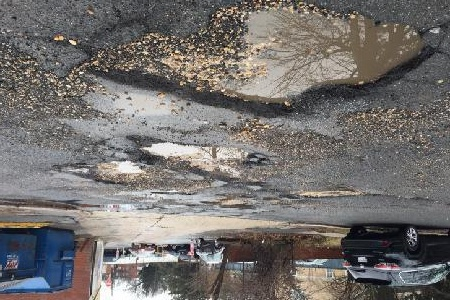pothole: (80, 1, 438, 120), (130, 131, 274, 184), (71, 158, 152, 187), (299, 189, 372, 200), (217, 198, 249, 210)
